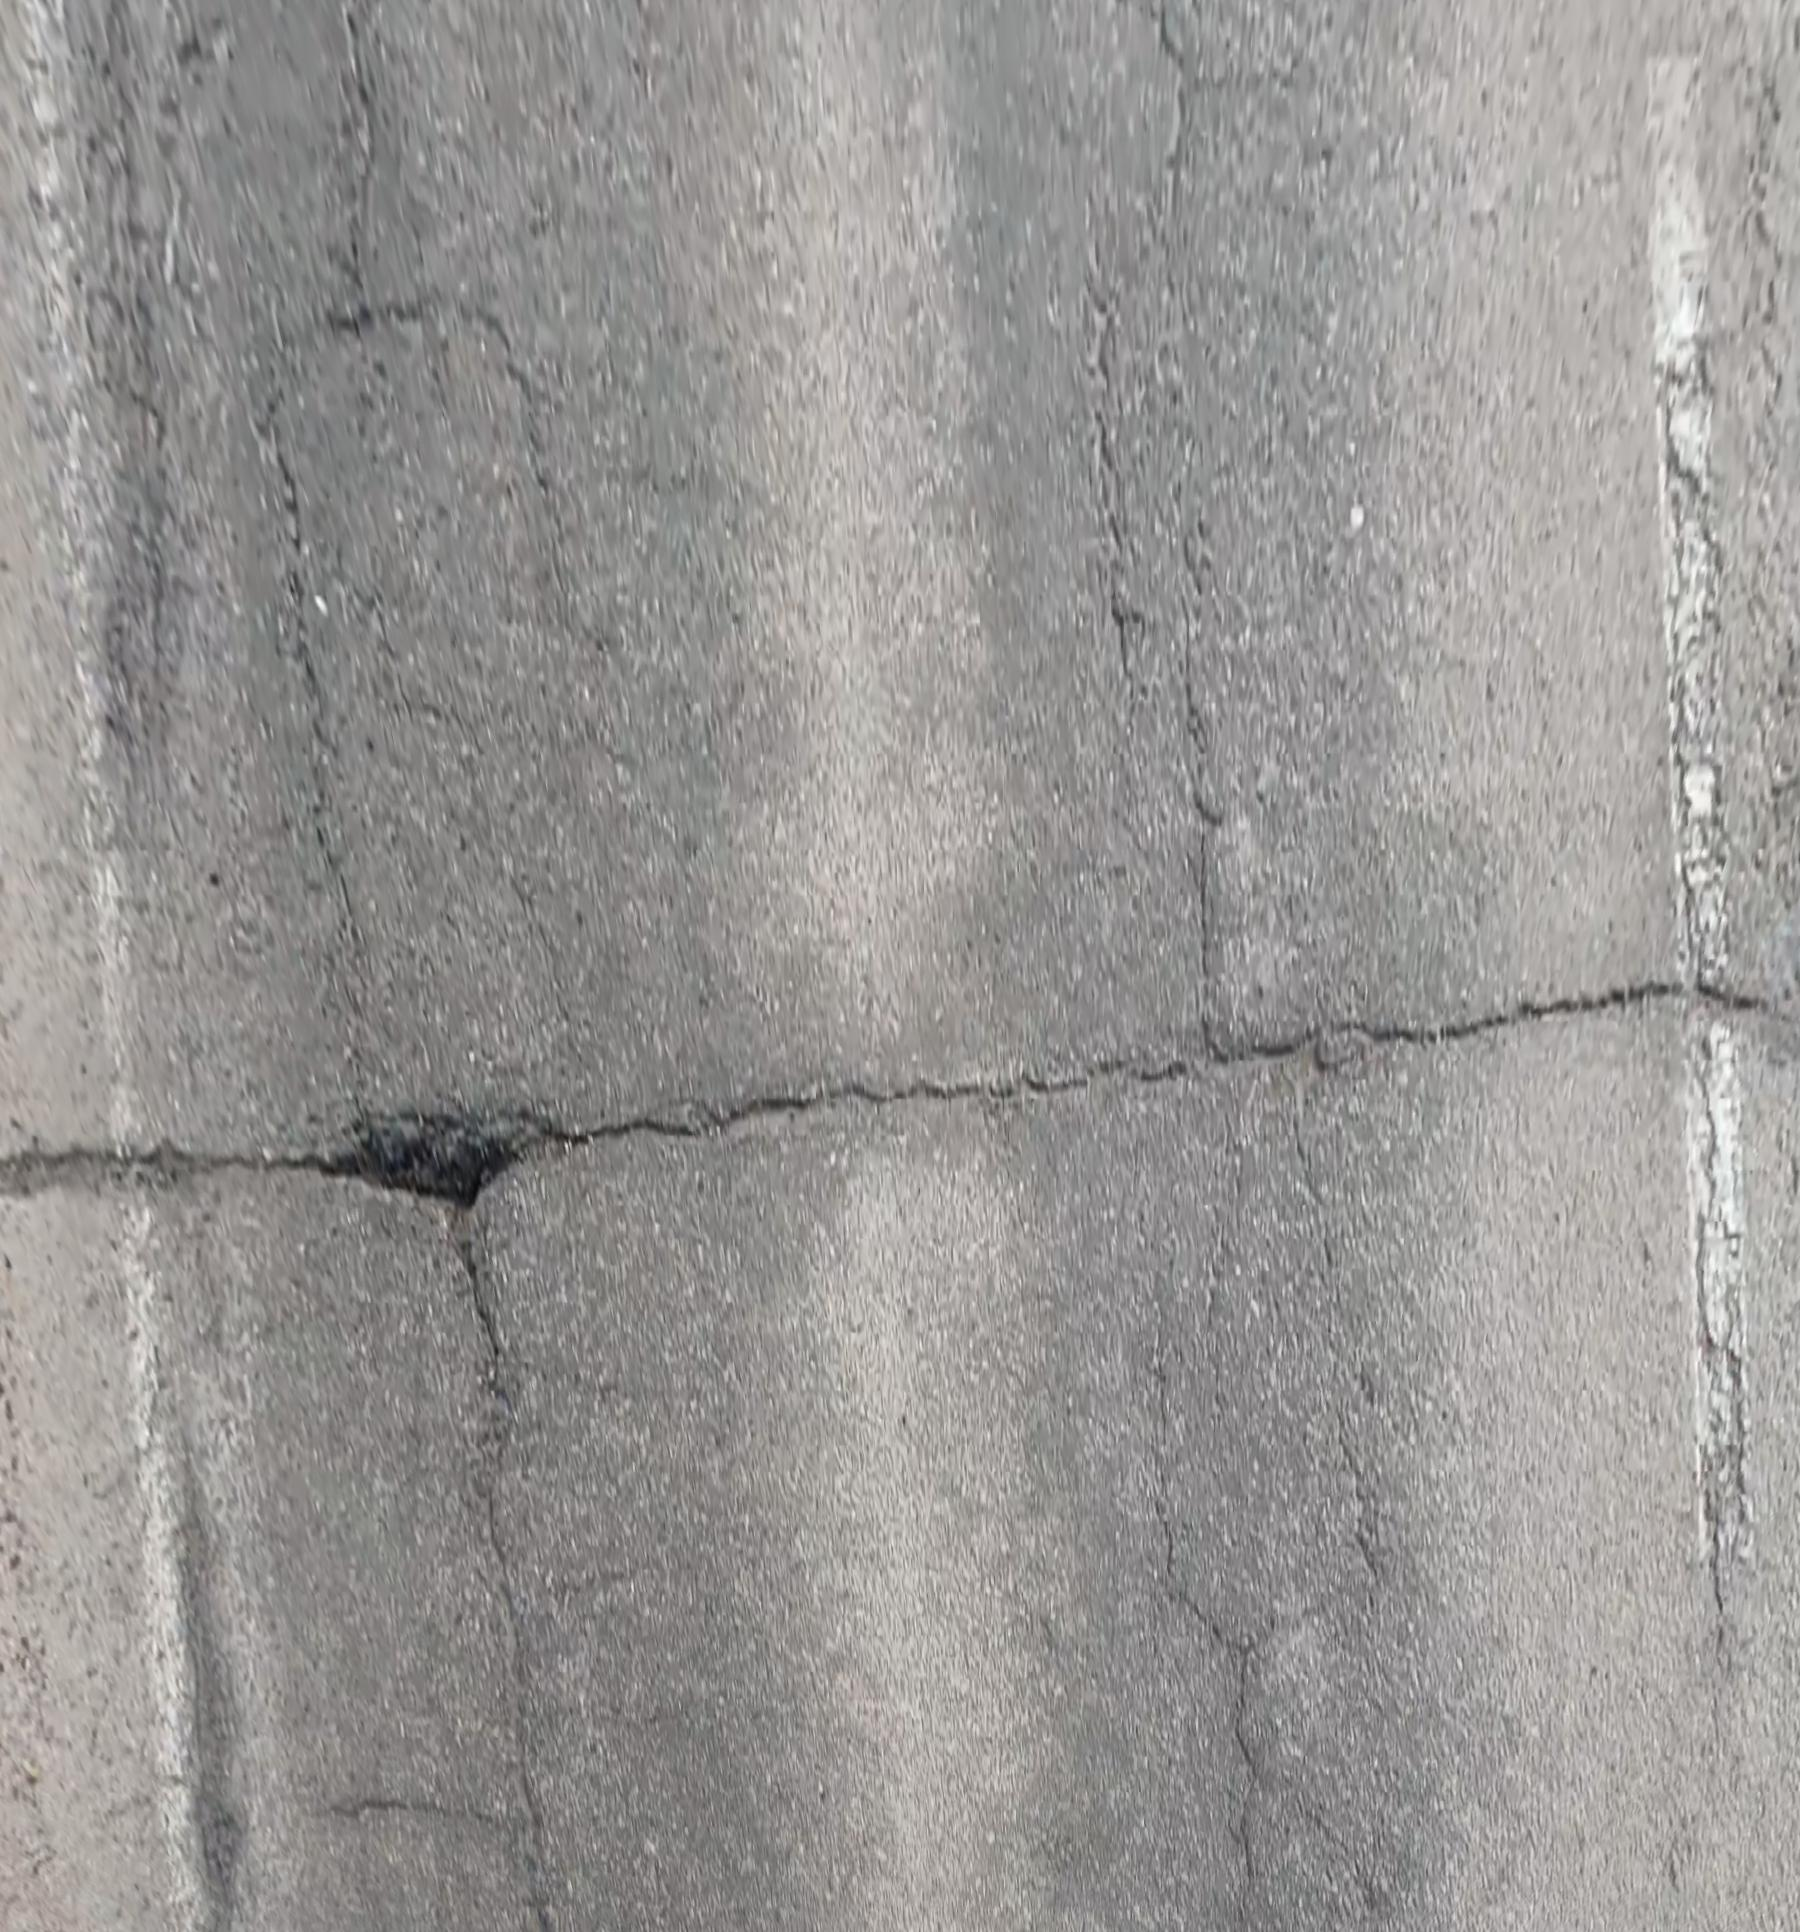pothole: (340, 1103, 531, 1203)
